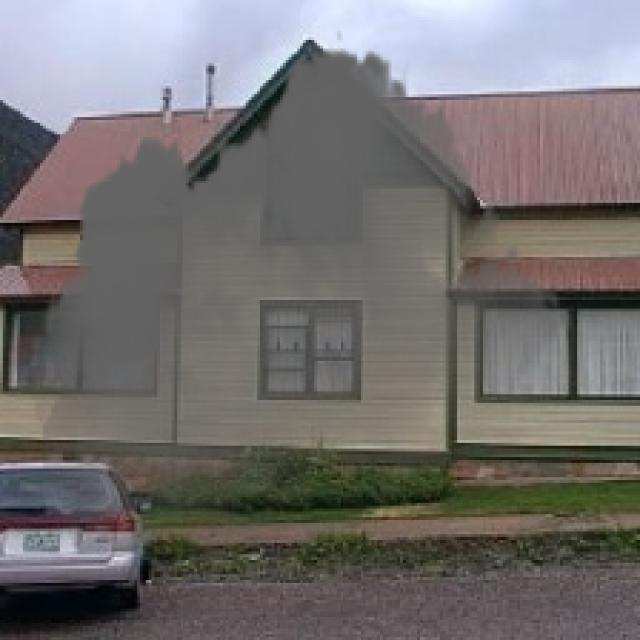smoke: (32, 28, 574, 583)
